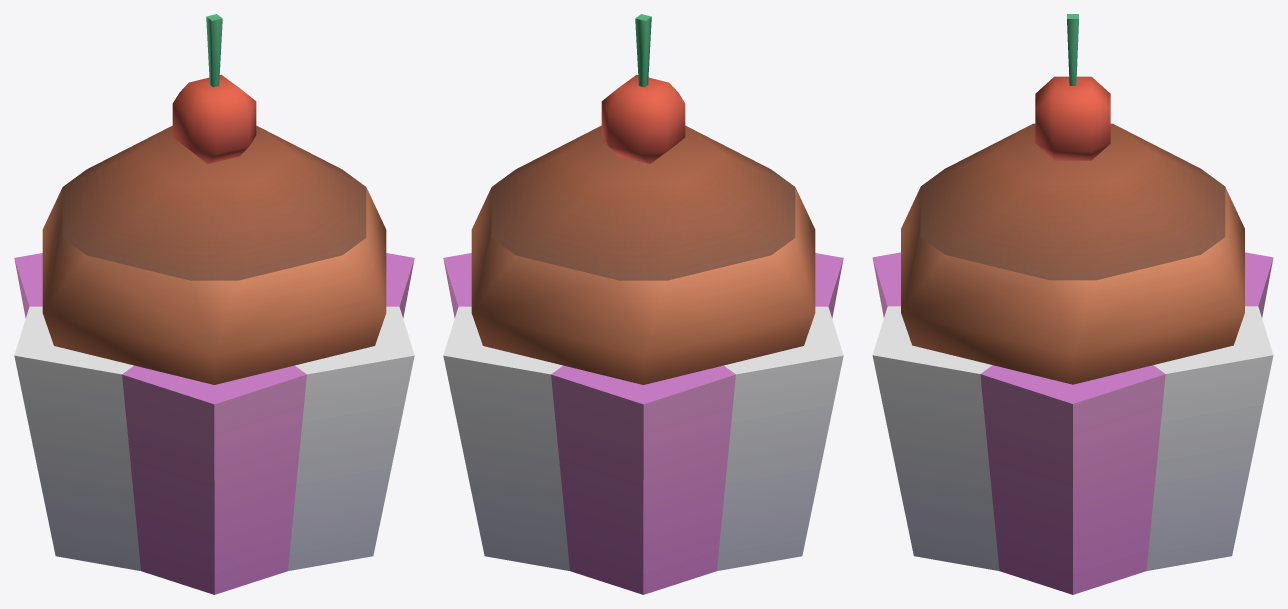
File: k-food-cupcake.glb
3 views of the same model, side by side, from view 1: azimuth 30°, elevation 25°; view 2: azimuth 150°, elevation 25°; view 3: azimuth 270°, elevation 25° (orthographic).
Parts seen in each view (by area): view 1: cupcake, cake, cherry; view 2: cupcake, cake, cherry; view 3: cupcake, cake, cherry.
Part boxes in pixels (bbox=[...]): cupcake: bbox=[14, 253, 414, 594]; cake: bbox=[42, 125, 386, 384]; cherry: bbox=[172, 14, 256, 163]; cupcake: bbox=[443, 253, 843, 594]; cake: bbox=[471, 125, 815, 384]; cherry: bbox=[601, 14, 685, 163]; cupcake: bbox=[872, 252, 1273, 594]; cake: bbox=[901, 123, 1244, 384]; cherry: bbox=[1035, 14, 1110, 160].
Size of the model in its own units: 0.3552 by 0.4238 by 0.3076.
1 material, 1 textured.
